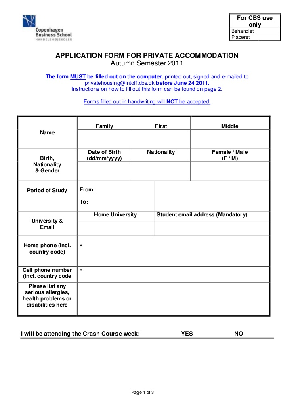textbox: (75, 281, 272, 318), (75, 234, 273, 269), (151, 178, 272, 213), (75, 265, 273, 284), (75, 179, 156, 213), (153, 219, 273, 239), (189, 158, 273, 183), (189, 126, 272, 151), (130, 127, 193, 151), (130, 159, 193, 183), (75, 219, 157, 237), (76, 128, 134, 151), (75, 160, 133, 183), (256, 32, 282, 42), (257, 27, 282, 36)
textline: (193, 327, 234, 341), (243, 326, 276, 340)
